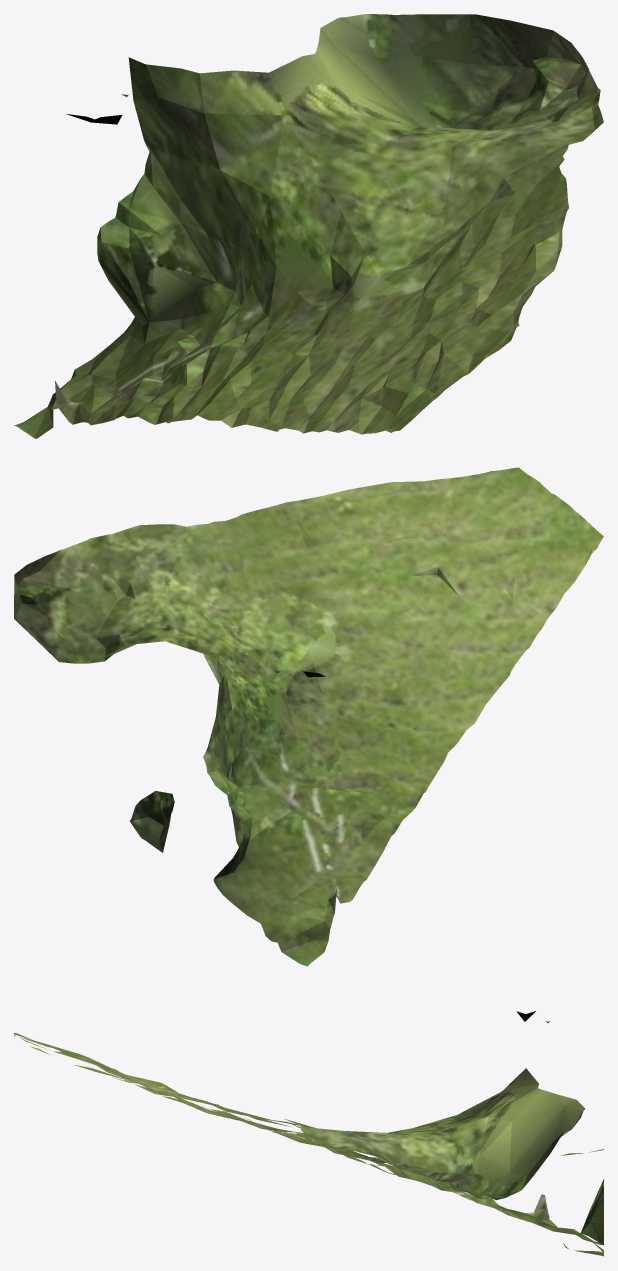
3 views of the same model, one above another, from view 1: azimuth 30°, elevation 25°; view 2: azimuth 150°, elevation 25°; view 3: azimuth 270°, elevation 25° (orthographic). The views are drawn at different scales.
Size of the model in its own units: 18.27 by 12.7 by 26.11.
2 materials, 2 textured.
